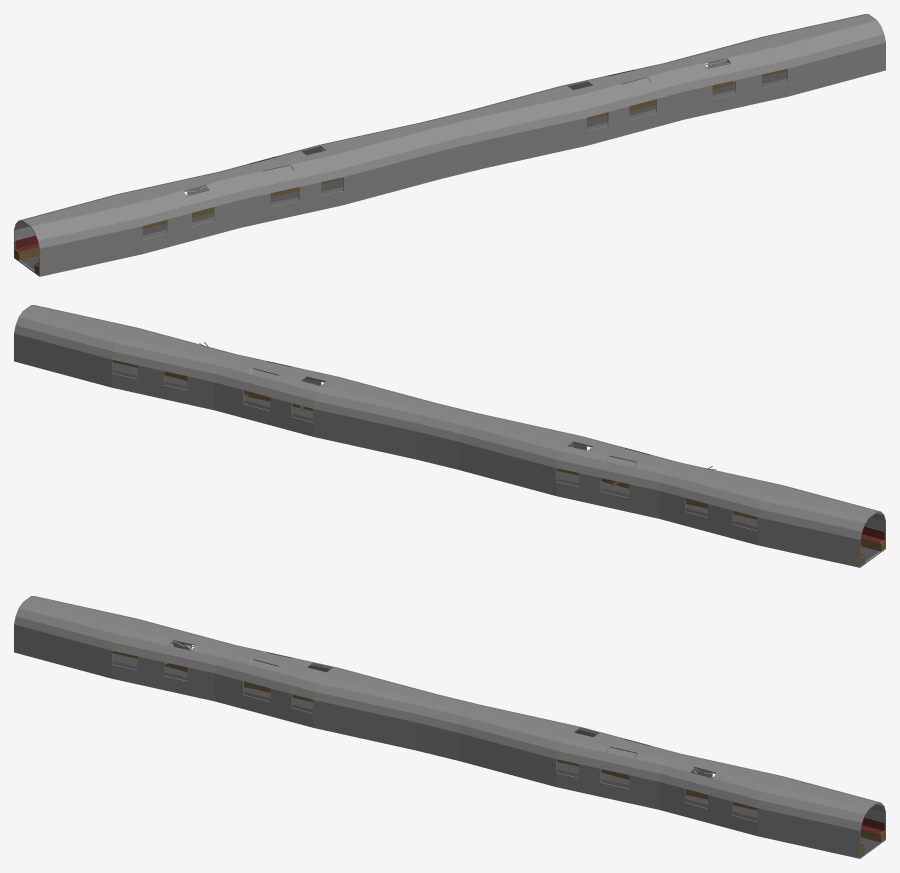
File: Trainmapcolour.fbx
The picture shows the model from 3 angles, top to bottom: view 1: azimuth 30°, elevation 25°; view 2: azimuth 150°, elevation 25°; view 3: azimuth 330°, elevation 25°; orthographic projection.
Visible parts, largest first — view 1: Cube; view 2: Cube; view 3: Cube.
Part boxes in pixels (x1=…): Cube: x1=14, y1=14, x2=885, y2=276; Cube: x1=14, y1=305, x2=885, y2=567; Cube: x1=14, y1=596, x2=885, y2=858.
Size of the model in its own units: 6317 by 332 by 396.
